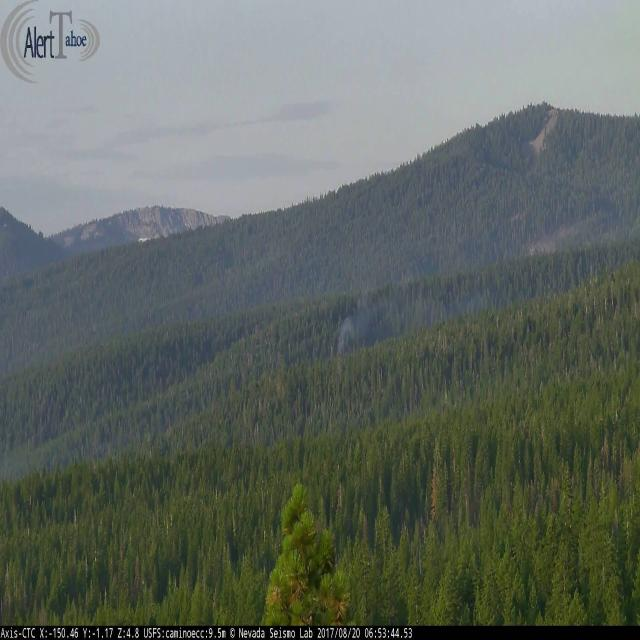smoke: (334, 240, 503, 354)
